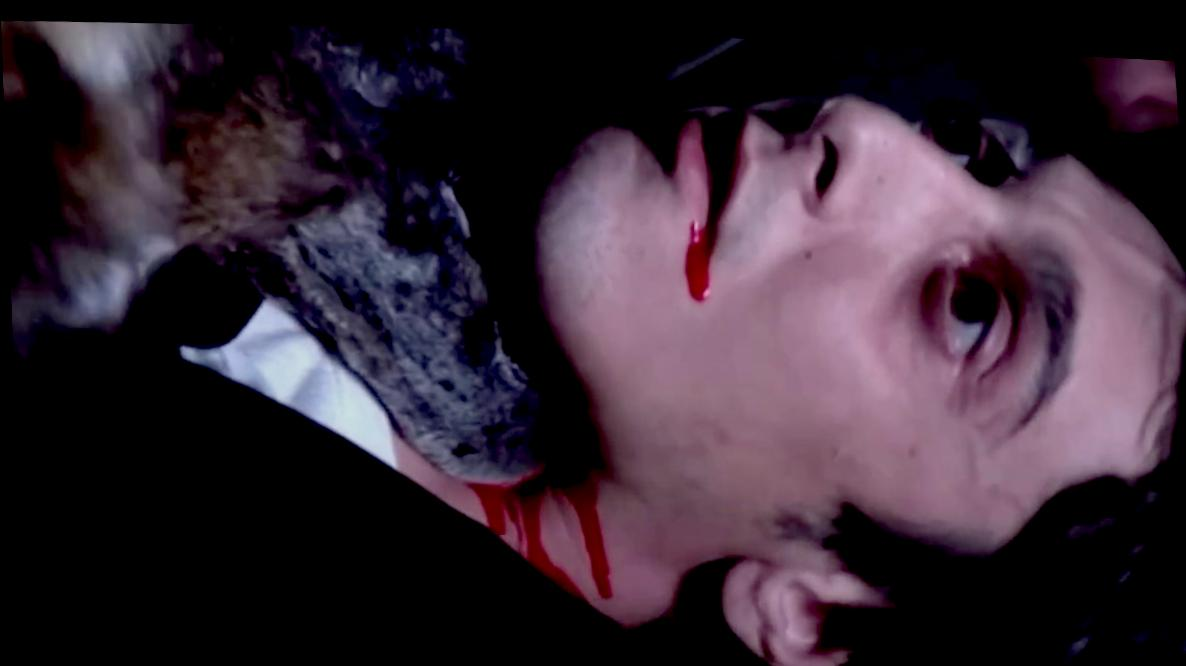Fire: (462, 462, 605, 596), (682, 212, 714, 293)
